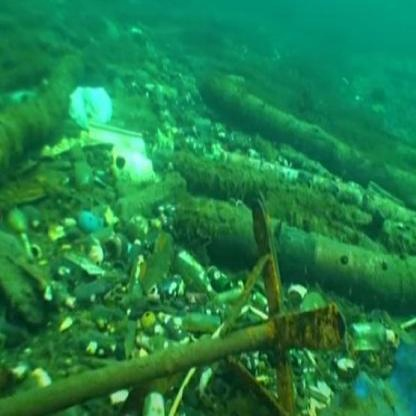rod: (204, 169, 416, 322), (194, 96, 386, 225), (212, 220, 346, 400)
